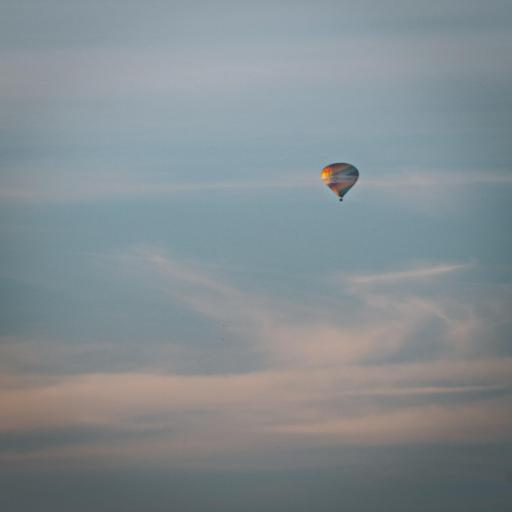hot air ballon: (321, 162, 363, 204)
